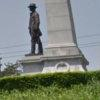Statue: (19, 3, 49, 61)
